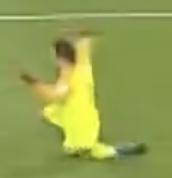goalkeeper: (17, 22, 166, 172)
